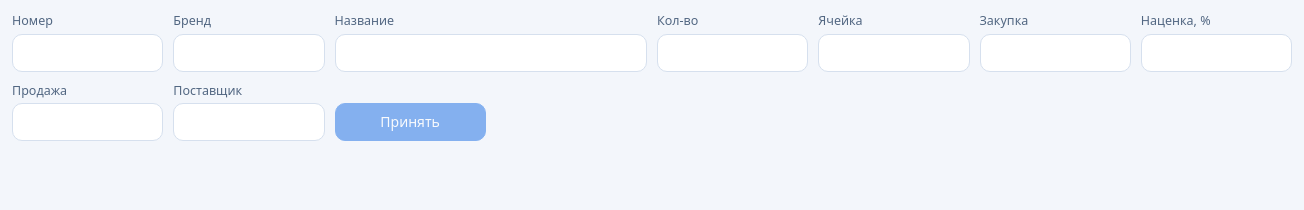
ReceiptForm › prefills existing item
Type "W 68/3" into the field labelled "Номер" at (88, 52), box [12,34,163,72]
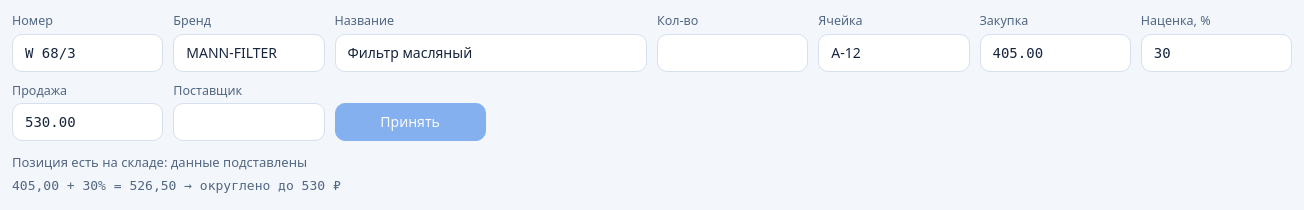
Expected: the text "Позиция есть на складе: данные подставлены" is shown, [12,153,307,171]
Expected: the field labelled "Бренд" holds "MANN-FILTER", [173,34,325,72]
Expected: the field labelled "Название" holds "Фильтр масляный", [334,34,647,72]
